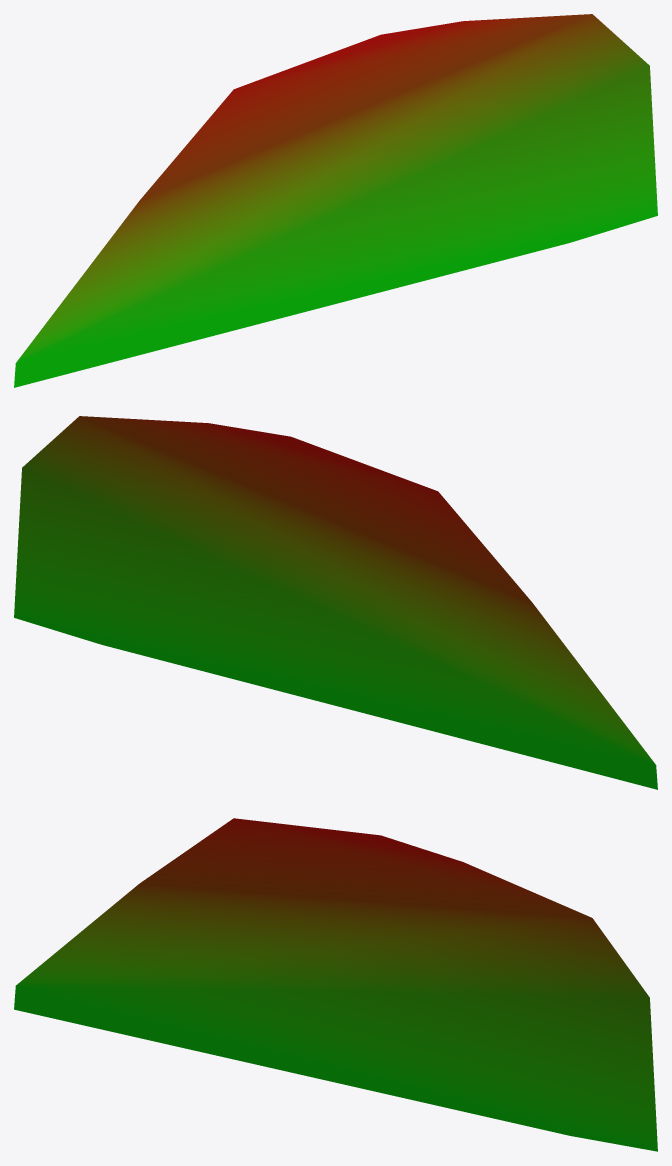
The model's file is River Saltbush_LOD4_Var5_vdfpcgbia.fbx.
The picture shows the model from 3 angles, top to bottom: view 1: azimuth 30°, elevation 25°; view 2: azimuth 150°, elevation 25°; view 3: azimuth 330°, elevation 25°; orthographic projection.
Visible parts, largest first — view 1: _3m7b_Var5_LOD4; view 2: _3m7b_Var5_LOD4; view 3: _3m7b_Var5_LOD4.
Boxes of the visible parts, x1=… form: _3m7b_Var5_LOD4: x1=14, y1=14, x2=657, y2=387; _3m7b_Var5_LOD4: x1=14, y1=416, x2=657, y2=789; _3m7b_Var5_LOD4: x1=14, y1=818, x2=657, y2=1151.
Size of the model in its own units: 48.34 by 18.92 by 8.27e-07.
